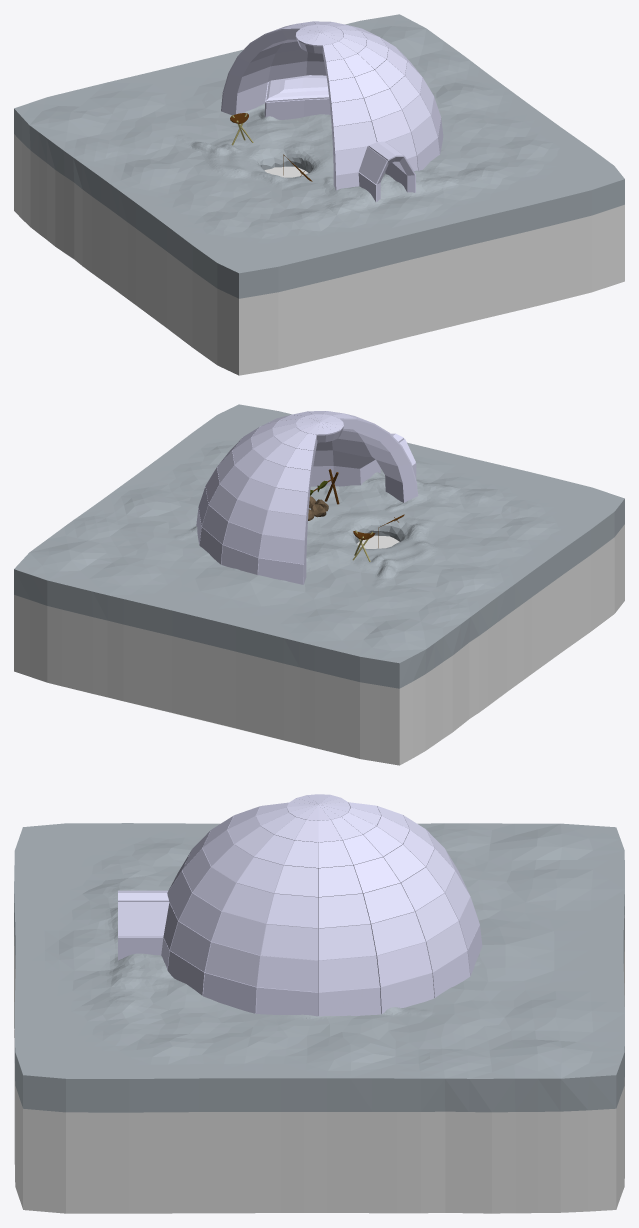
Rendered from igloo.fbx.
3 views of the same model, one above another, from view 1: azimuth 30°, elevation 25°; view 2: azimuth 150°, elevation 25°; view 3: azimuth 270°, elevation 25° (orthographic). The views are drawn at different scales.
Parts seen in each view (by area): view 1: Banquise, Igloo; view 2: Banquise, Igloo, Chaise; view 3: Banquise, Igloo.
Part boxes in pixels (<box>): Banquise: <box>14,14,624,375</box>; Igloo: <box>221,21,443,201</box>; Banquise: <box>14,404,624,765</box>; Igloo: <box>196,411,418,584</box>; Chaise: <box>310,469,404,561</box>; Banquise: <box>14,823,624,1213</box>; Igloo: <box>118,794,482,1016</box>.
Bounding box in the file's own units: 372 × 191 × 376.
